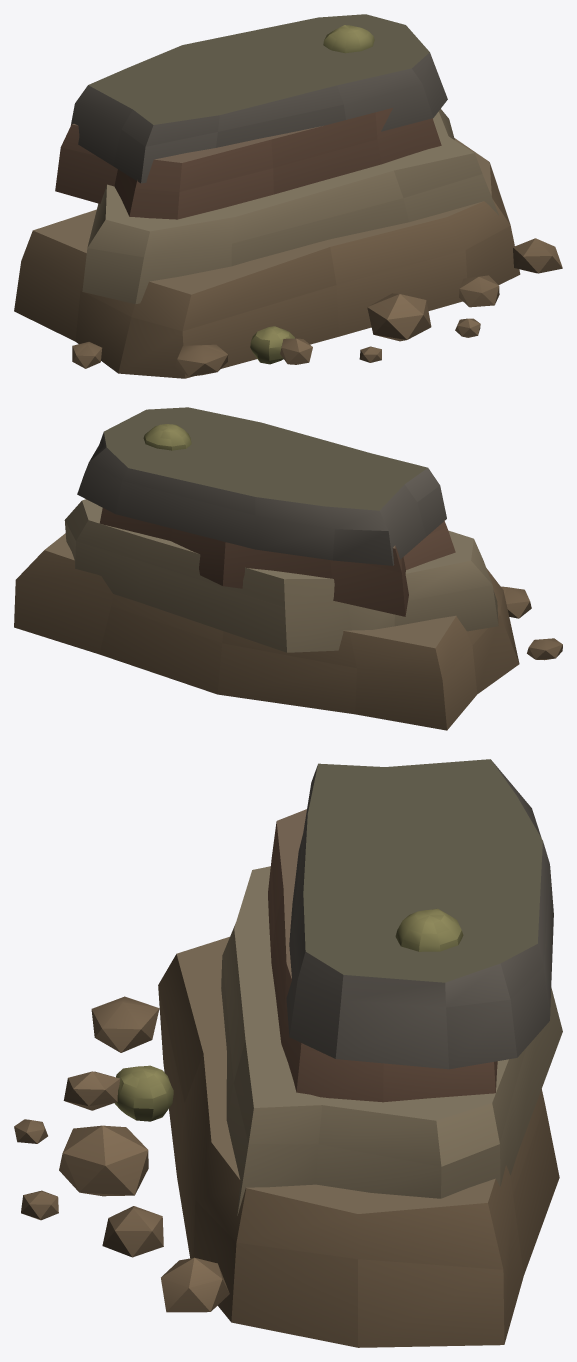
File: barda_a.glb
The picture shows the model from 3 angles, top to bottom: view 1: azimuth 30°, elevation 25°; view 2: azimuth 150°, elevation 25°; view 3: azimuth 270°, elevation 25°; orthographic projection. The views are drawn at different scales.
Visible parts, largest first — view 1: BardaA; view 2: BardaA; view 3: BardaA.
Boxes of the visible parts, x1=… form: BardaA: x1=14, y1=14, x2=562, y2=378; BardaA: x1=14, y1=407, x2=562, y2=730; BardaA: x1=14, y1=759, x2=562, y2=1347.
Size of what is drawn, in the model's own units: 8.09 by 3.58 by 5.37.
